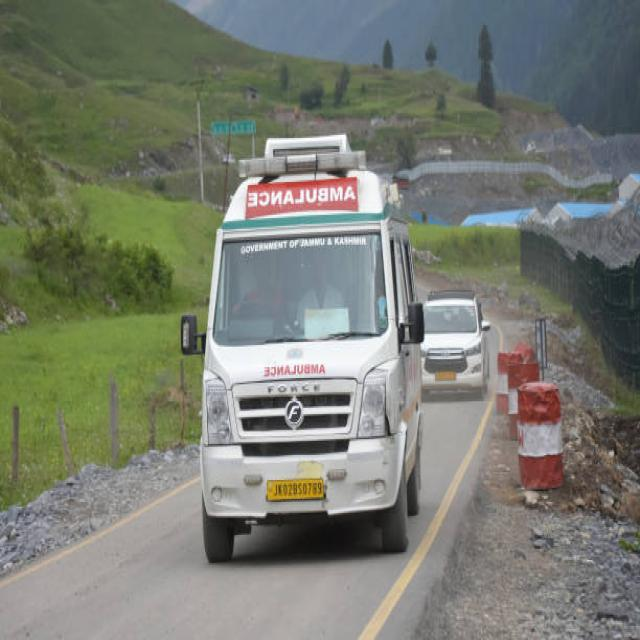emergency: (184, 131, 420, 561)
